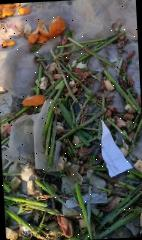organic: (102, 60, 142, 120), (4, 188, 71, 223), (76, 180, 107, 240), (36, 14, 72, 42), (24, 90, 48, 108)
